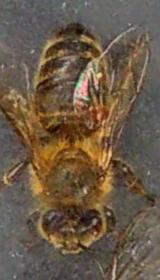varroa_mite: (79, 98, 110, 130)
